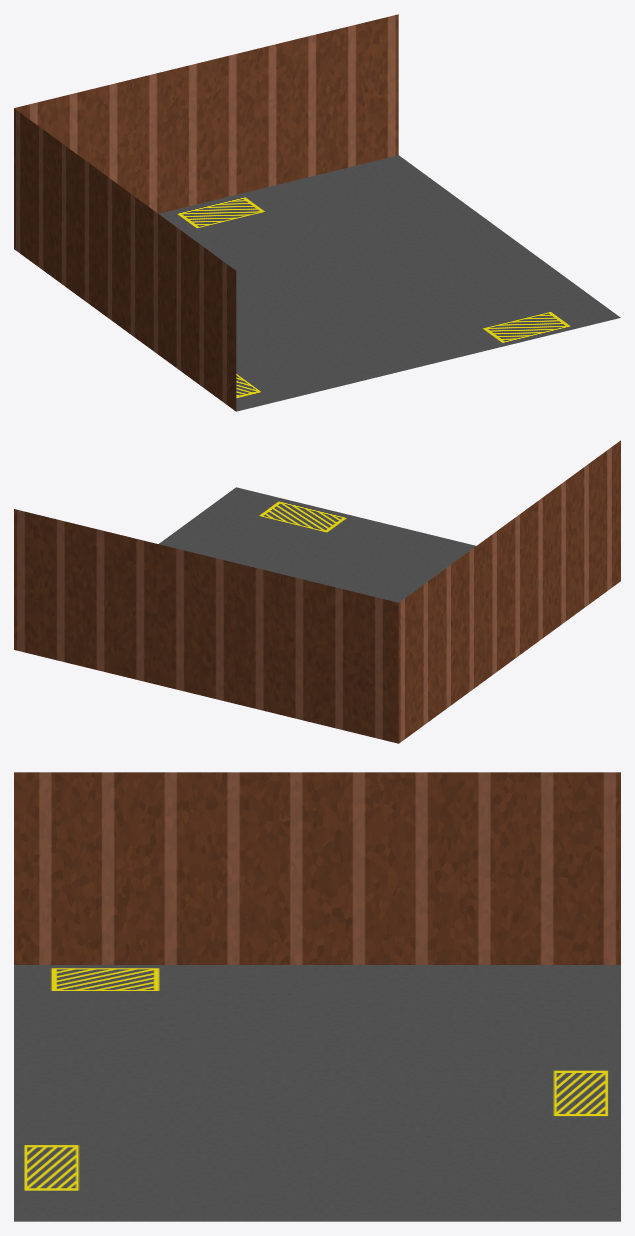
File: roomMachine.fbx
3 views of the same model, one above another, from view 1: azimuth 30°, elevation 25°; view 2: azimuth 150°, elevation 25°; view 3: azimuth 270°, elevation 25° (orthographic). The views are drawn at different scales.
Visible parts, largest first — view 1: SM_Room_Machine; view 2: SM_Room_Machine; view 3: SM_Room_Machine.
Part boxes in pixels (x1,y1,x2,y2): SM_Room_Machine: (14, 14, 620, 411); SM_Room_Machine: (14, 440, 620, 743); SM_Room_Machine: (14, 772, 620, 1221).
Bounding box in the file's own units: 1000 × 350 × 1000.
Materials: 2 (2 with a texture image).
